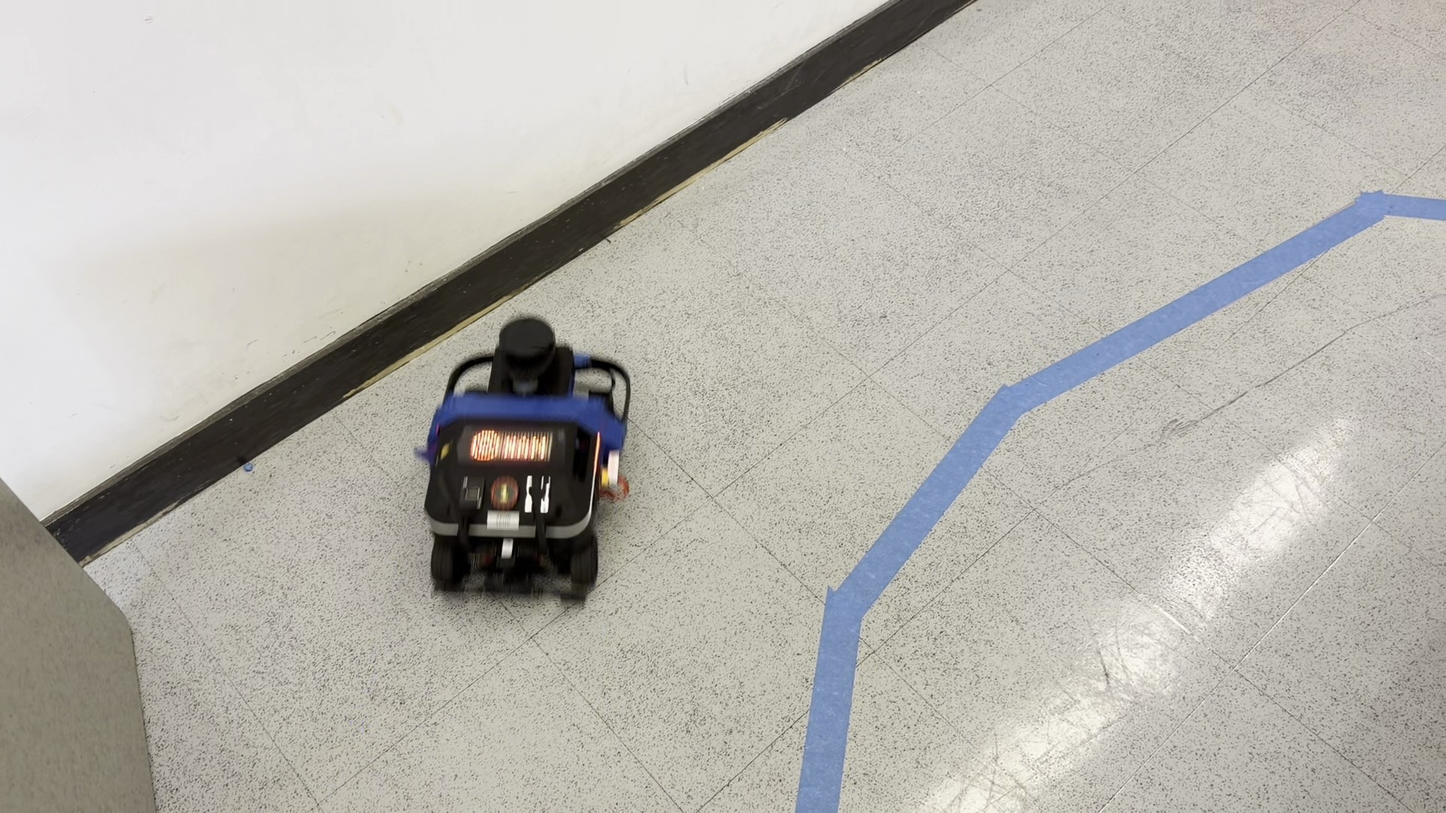racecar: (420, 320, 631, 602)
